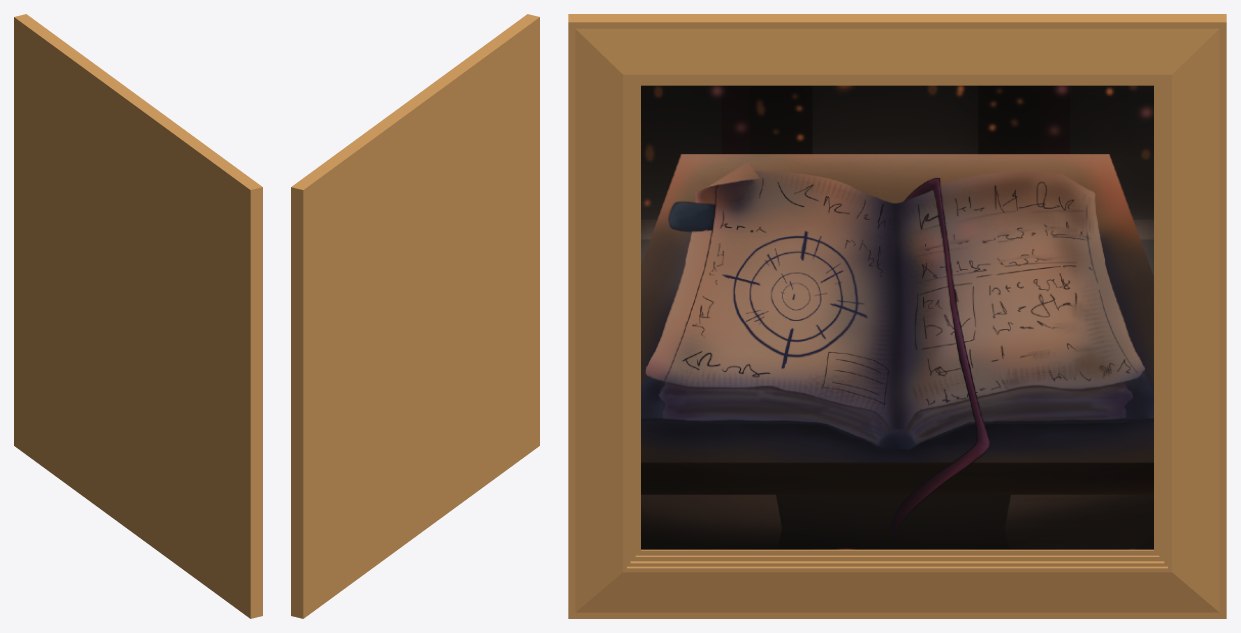
File: frame.glb
3 views of the same model, side by side, from view 1: azimuth 30°, elevation 25°; view 2: azimuth 150°, elevation 25°; view 3: azimuth 270°, elevation 25° (orthographic). The views are drawn at different scales.
Parts seen in each view (by area): view 1: frame; view 2: frame; view 3: pic, frame.
Boxes of the visible parts, box(x1,y1,x2,y2) form: frame: box(14, 14, 262, 618); frame: box(291, 14, 539, 618); pic: box(641, 85, 1153, 549); frame: box(568, 14, 1226, 618).
Size of the model in its own units: 0.2443 by 6.13 by 6.13.
Materials: 2 (1 with a texture image).
